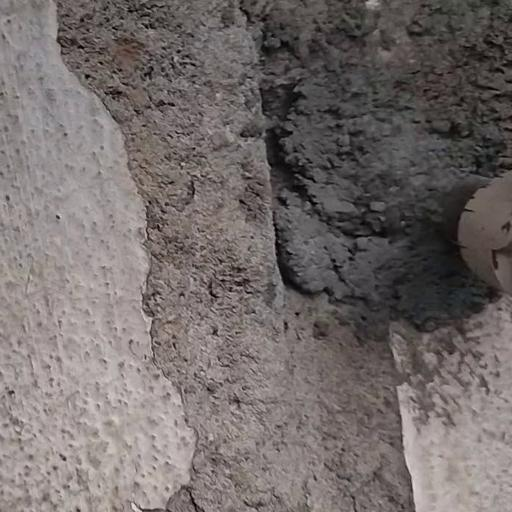spalling: (56, 0, 512, 512)
